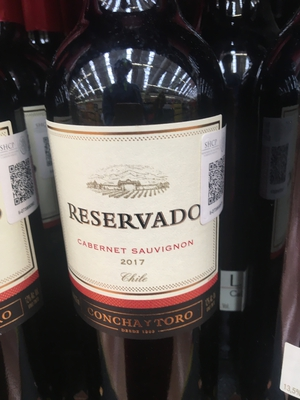reservado cabernet sauvignon: (51, 6, 228, 389)
